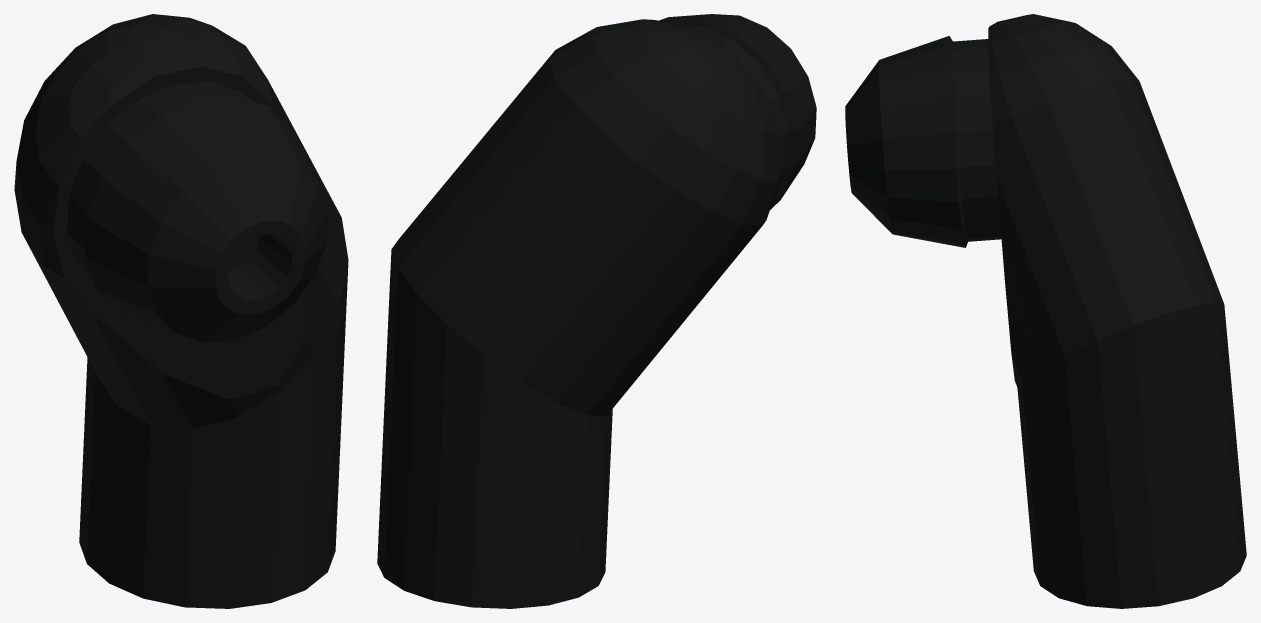
The model's file is LeoDart_right_arm.obj.
The picture shows the model from 3 angles, left to right: view 1: azimuth 30°, elevation 25°; view 2: azimuth 150°, elevation 25°; view 3: azimuth 270°, elevation 25°; orthographic projection. The views are drawn at different scales.
Visible parts, largest first — view 1: Cylinder01; view 2: Cylinder01; view 3: Cylinder01.
Boxes of the visible parts, x1,y1,x2,y2 form: Cylinder01: (14,14,348,608); Cylinder01: (377,14,816,608); Cylinder01: (845,14,1246,608).
Bounding box in the file's own units: 0.6363 × 1.03 × 0.7518.
Materials: 1 (1 with a texture image).
